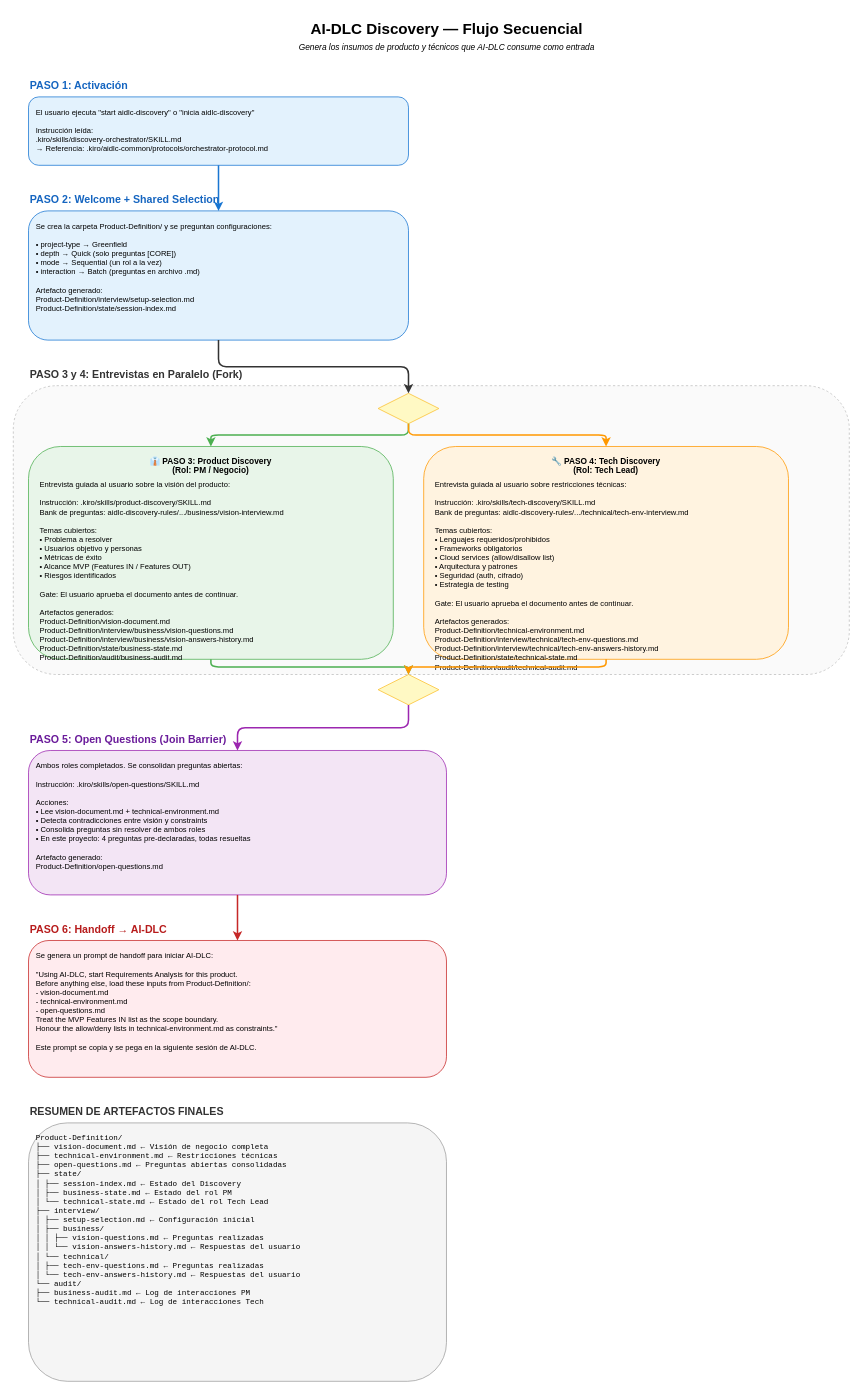
The diagram is 863 pixels wide and 1395 high, and some of its shapes have lost their labels. Each missing label, with the centre of its shape:
"FORK" belongs at pixel 408 408.
"JOIN" belongs at pixel 408 689.
